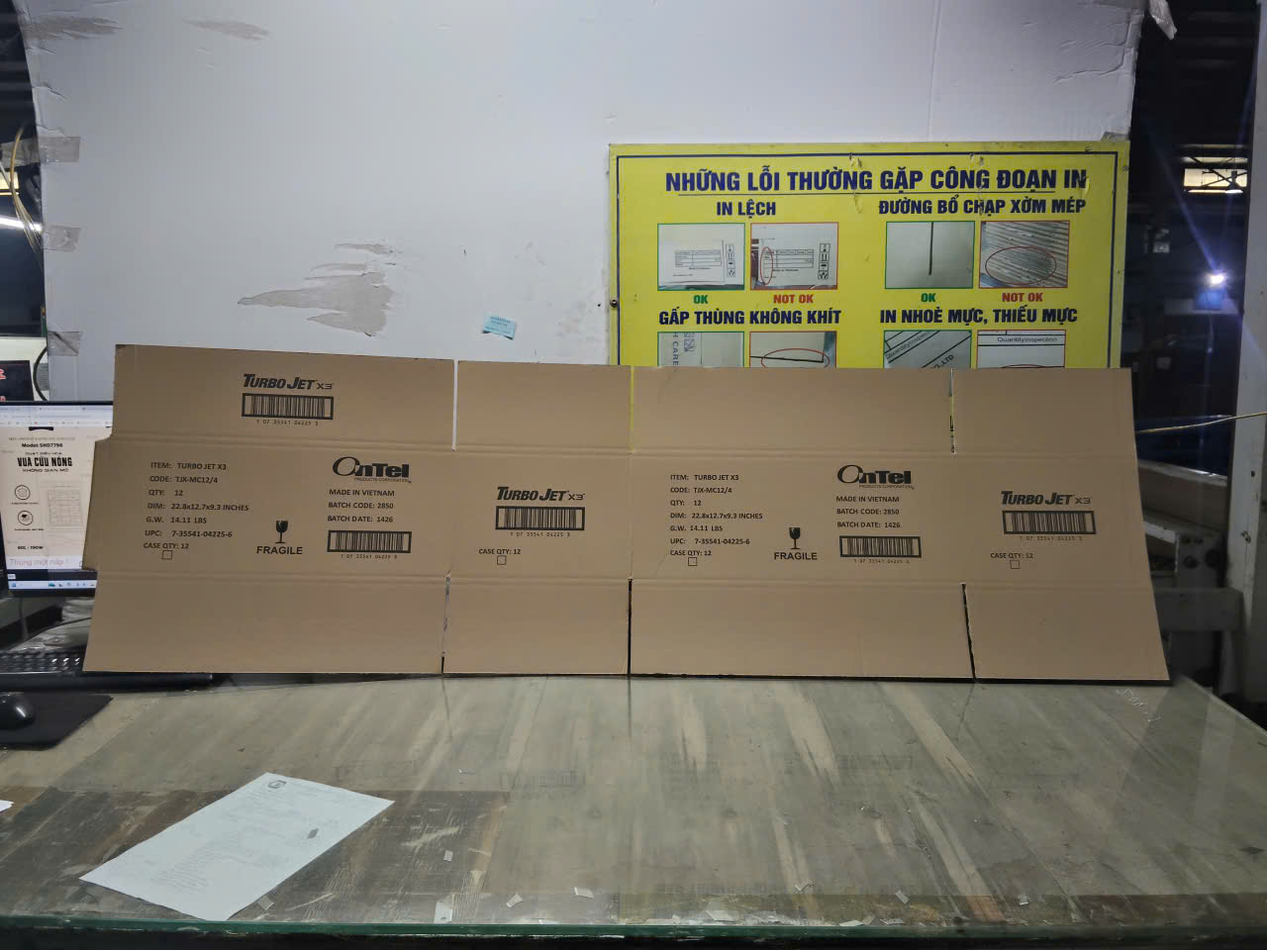box: (81, 345, 1174, 696)
